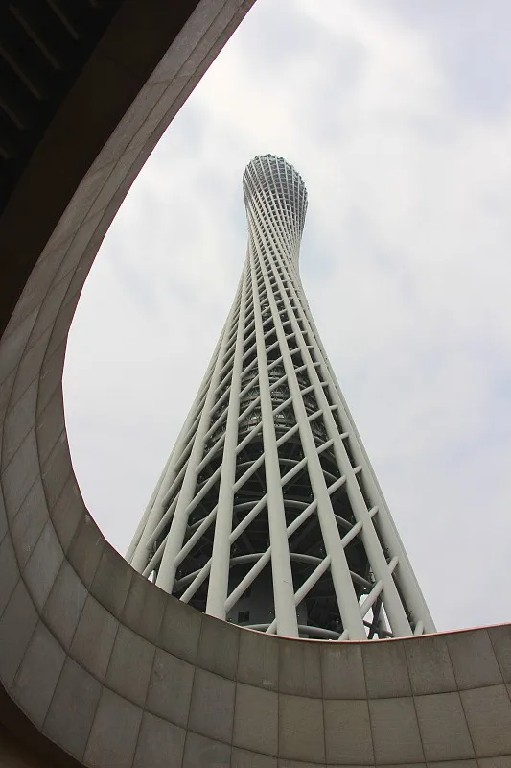Canton: (126, 157, 438, 636)
